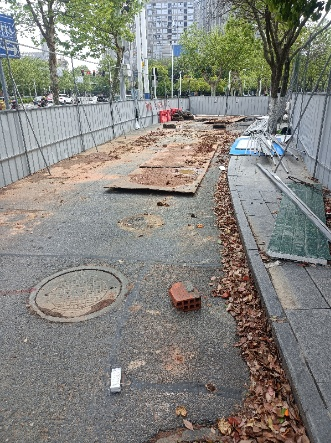good: (29, 266, 128, 322)
